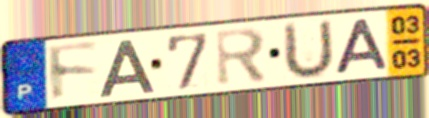7: (164, 30, 211, 92)
A: (97, 37, 157, 99), (331, 17, 392, 76)
F: (45, 40, 102, 105)
R: (214, 26, 270, 90)
U: (281, 17, 336, 83)
